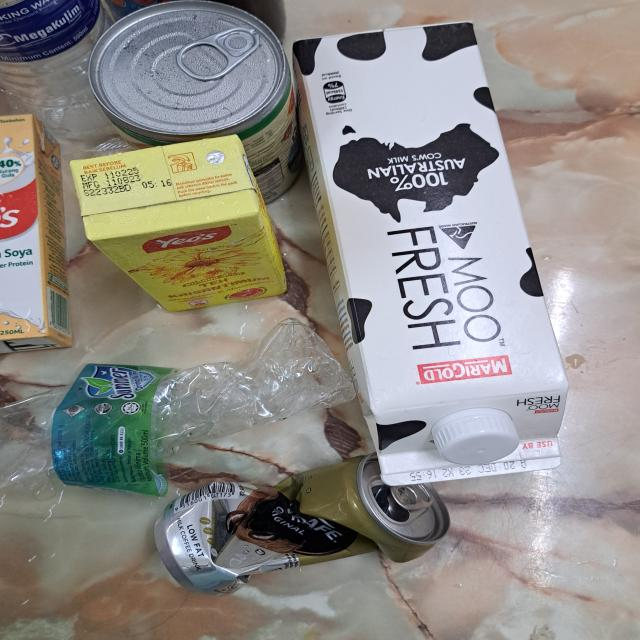can: (85, 0, 300, 204), (153, 454, 451, 596)
drink carton: (290, 20, 570, 482), (66, 136, 291, 314), (0, 113, 71, 354)
plastic bottle: (0, 319, 356, 497), (0, 0, 113, 142)
plastic bottle cap: (432, 410, 520, 465)
pop tab: (176, 26, 262, 80), (392, 482, 434, 510)
